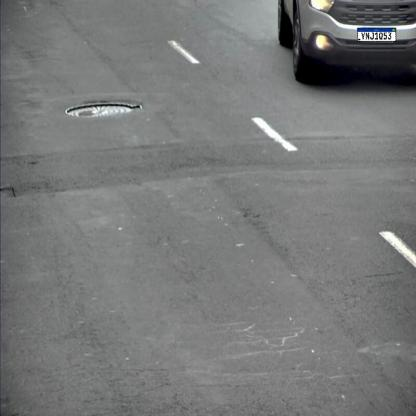PlacaM: (357, 28, 396, 42)
